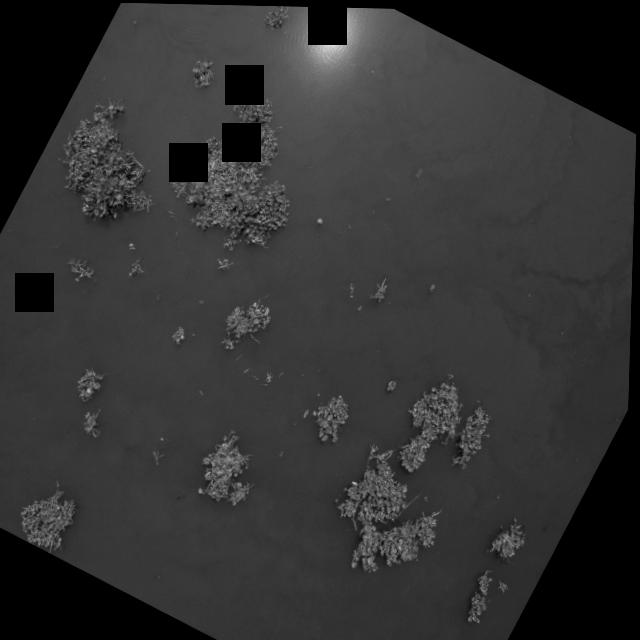plastic: (382, 370, 407, 398), (219, 174, 239, 199), (80, 381, 98, 399), (298, 404, 314, 422)
